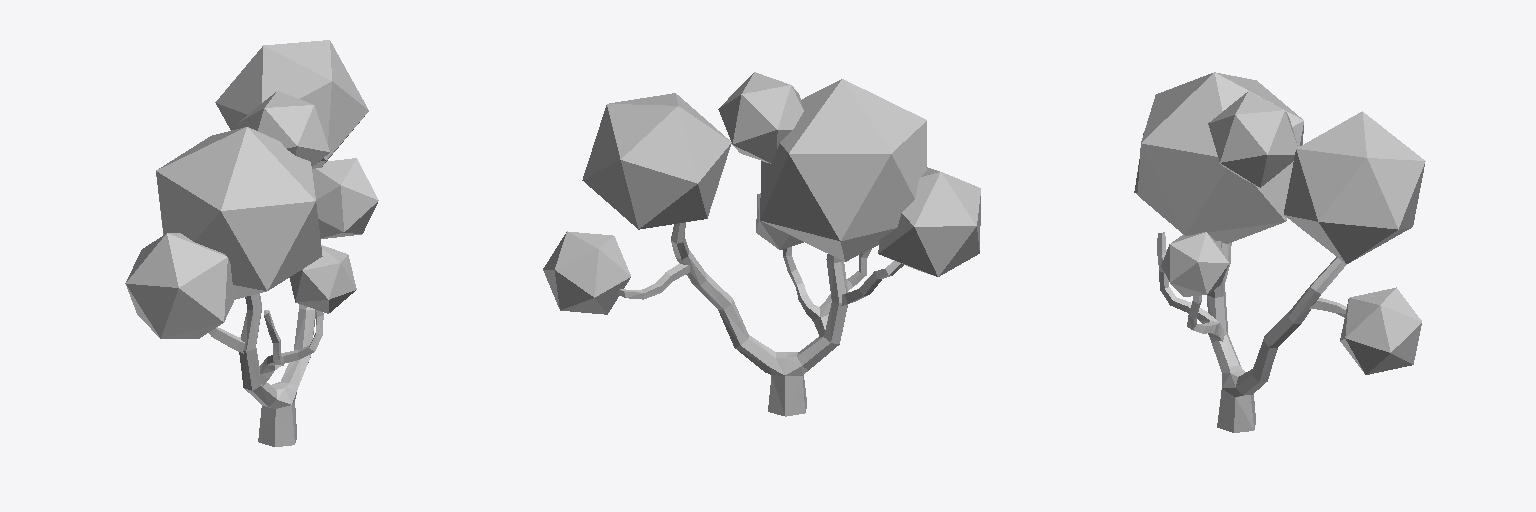
Rendered from tree.obj.
The picture shows the model from 3 angles: view 1: azimuth 30°, elevation 25°; view 2: azimuth 150°, elevation 25°; view 3: azimuth 270°, elevation 25°; orthographic projection.
Parts seen in each view (by area): view 1: Tree_lp_11; view 2: Tree_lp_11; view 3: Tree_lp_11.
Boxes of the visible parts, box(x1,y1,x2,y2) form: Tree_lp_11: box(125, 40, 378, 446); Tree_lp_11: box(543, 72, 980, 416); Tree_lp_11: box(1134, 72, 1425, 432).
Size of the model in its own units: 0.11 by 0.1043 by 0.0818.